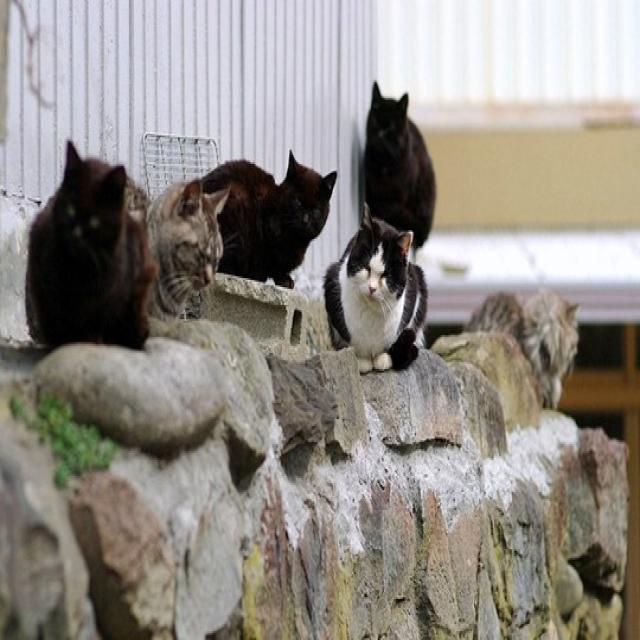cat: (26, 141, 156, 349), (201, 152, 334, 287), (324, 205, 428, 372), (126, 178, 228, 319), (366, 83, 436, 249)
